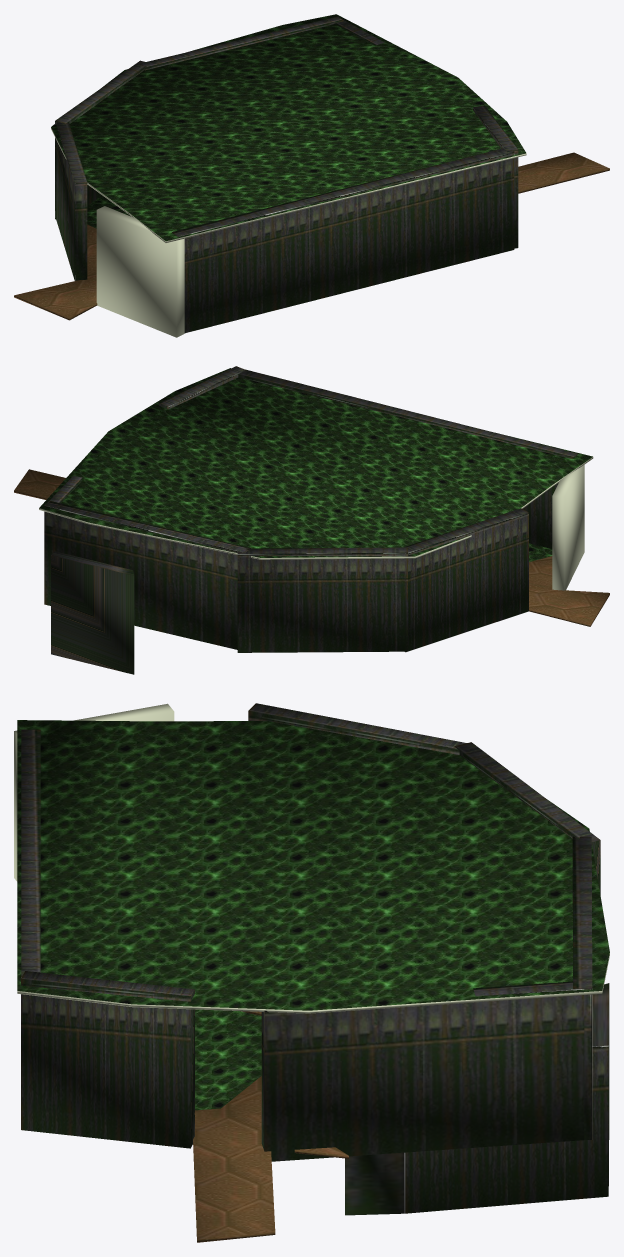
Rendered from zigzag-room.obj.
3 renders of one model, top to bottom at view 1: azimuth 30°, elevation 25°; view 2: azimuth 150°, elevation 25°; view 3: azimuth 270°, elevation 25°, orthographic. The views are drawn at different scales.
Parts seen in each view (by area): view 1: Cylinder1_copy16, Cube2, Cube2_copy9, Cube4, Cube2_copy13, Cube2_copy11, Cube2_copy12, Cube2_copy14, Cylinder1; view 2: Cylinder1_copy16, Cube2_copy12, Cube2_copy11, Cube2_copy13, Cube2_copy15, Cube2, Cube4, Cube2_copy9, Cube2_copy14; view 3: Cylinder1_copy16, Cube2_copy10, Cube2_copy14, Cube2_copy15, Cube4, Cylinder1, Cube2, Cube2_copy11, Cube2_copy13, Cube2_copy12, Cube2_copy9.
Part boxes in pixels (x1,y1,x2,y2): Cylinder1_copy16: (51,14,526,242); Cube2: (172,148,514,333); Cube2_copy9: (96,206,184,337); Cube4: (14,152,609,320); Cube2_copy13: (56,122,87,280); Cube2_copy11: (139,16,343,70); Cube2_copy12: (55,60,146,219); Cube2_copy14: (473,105,518,248); Cylinder1: (87,195,130,228); Cylinder1_copy16: (39,368,593,559); Cube2_copy12: (237,547,407,652); Cube2_copy11: (44,501,250,649); Cube2_copy13: (404,508,528,652); Cube2_copy15: (51,551,134,674); Cube2: (238,369,577,548); Cube4: (14,469,609,626); Cube2_copy9: (552,465,584,590); Cube2_copy14: (159,366,245,409); Cylinder1_copy16: (17,720,609,1013); Cube2_copy10: (261,981,584,1161); Cube2_copy14: (21,971,194,1148); Cube2_copy15: (345,983,609,1215); Cube4: (193,1011,348,1242); Cylinder1: (195,1009,261,1110); Cube2: (21,729,40,977); Cube2_copy11: (572,836,592,1139); Cube2_copy13: (248,703,466,754); Cube2_copy12: (454,742,600,894); Cube2_copy9: (14,703,174,881).
Bounding box in the file's own units: 7.64 × 1.85 × 4.44.
5 materials, 4 textured.
